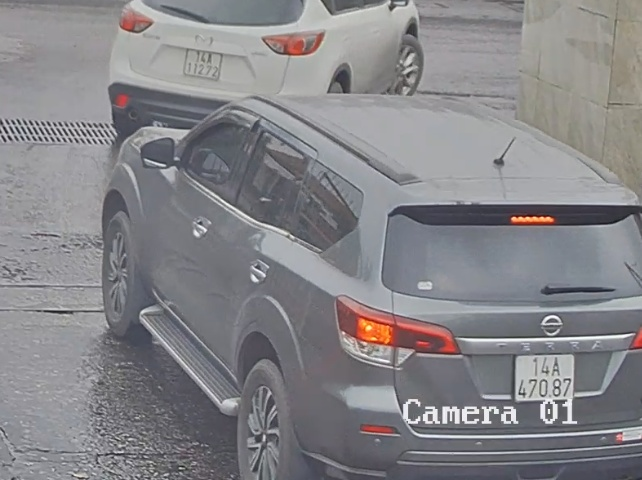vehicle plate: (509, 350, 578, 404)
